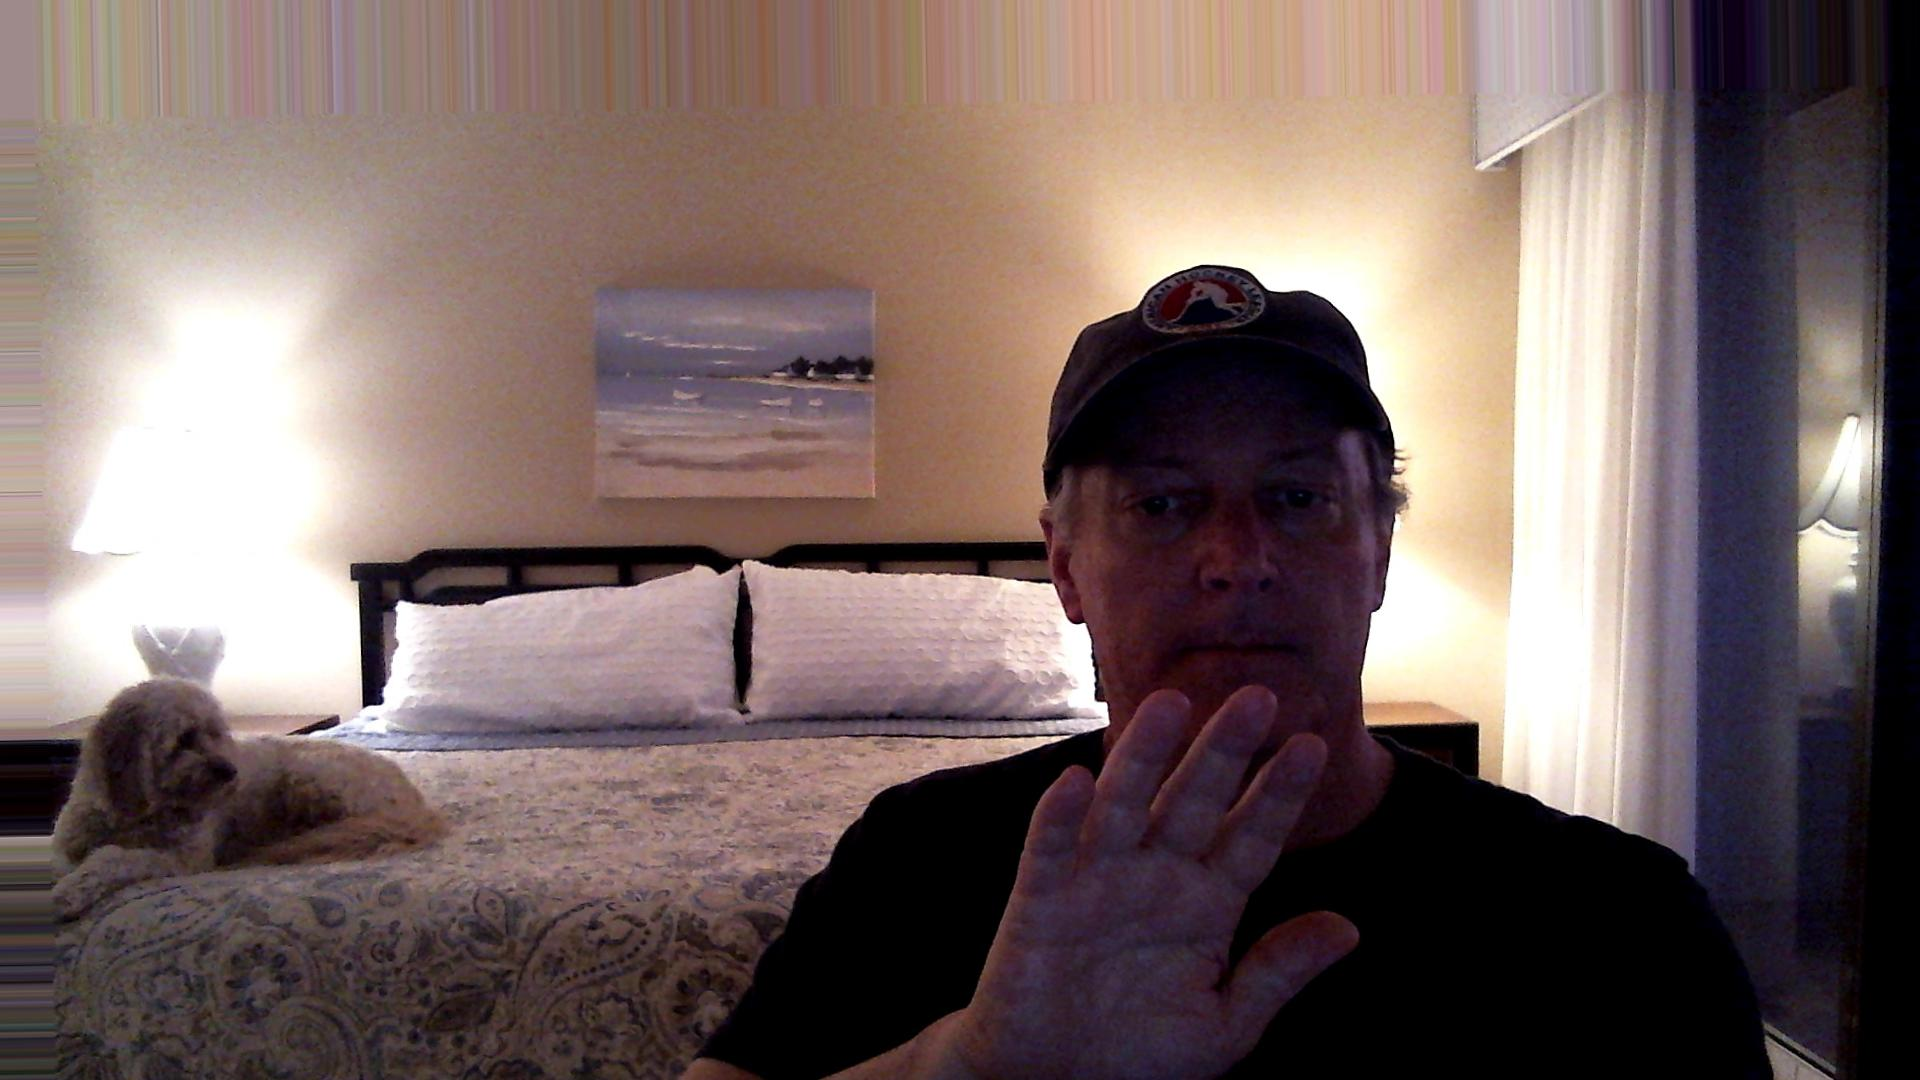Hello: (965, 669, 1367, 1080)
